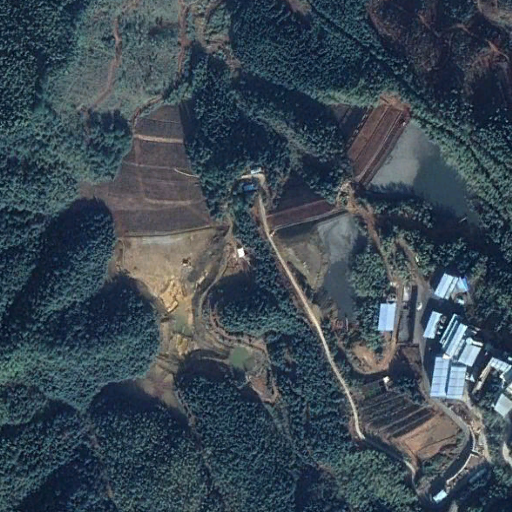tp: (78, 101, 271, 421), (331, 96, 490, 232), (268, 174, 360, 323)
